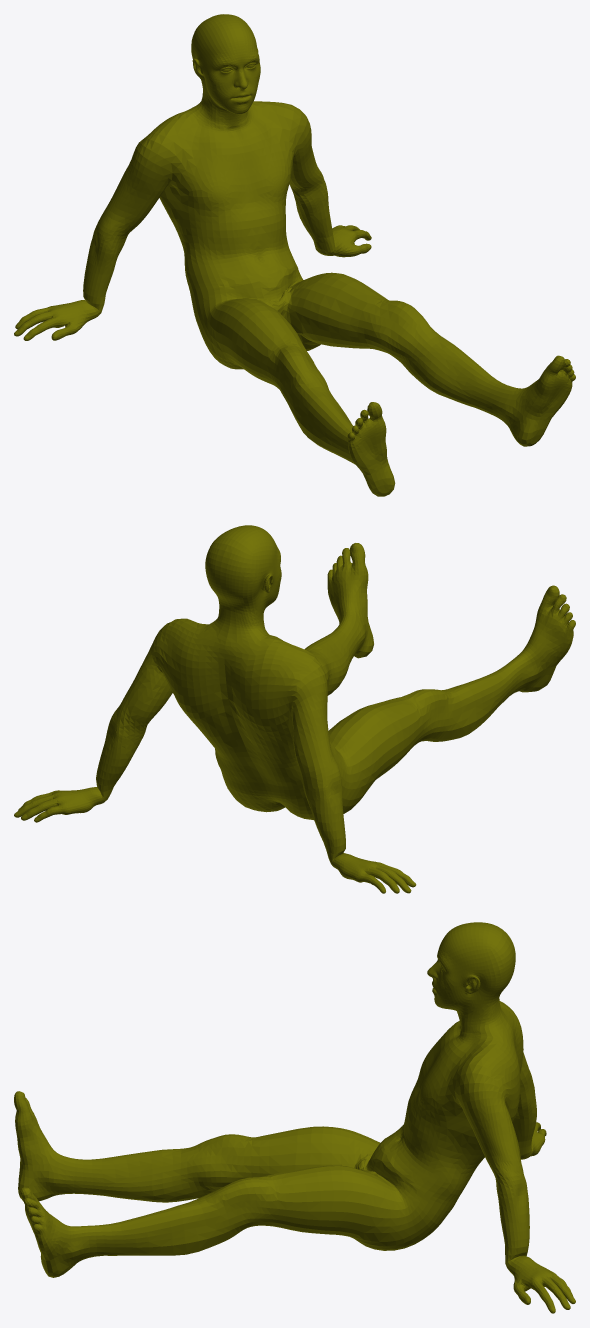
File: pose_original_3.obj
3 views of the same model, one above another, from view 1: azimuth 30°, elevation 25°; view 2: azimuth 150°, elevation 25°; view 3: azimuth 270°, elevation 25° (orthographic). The views are drawn at different scales.
Size of the model in its own units: 1.87 by 1.48 by 2.42.
